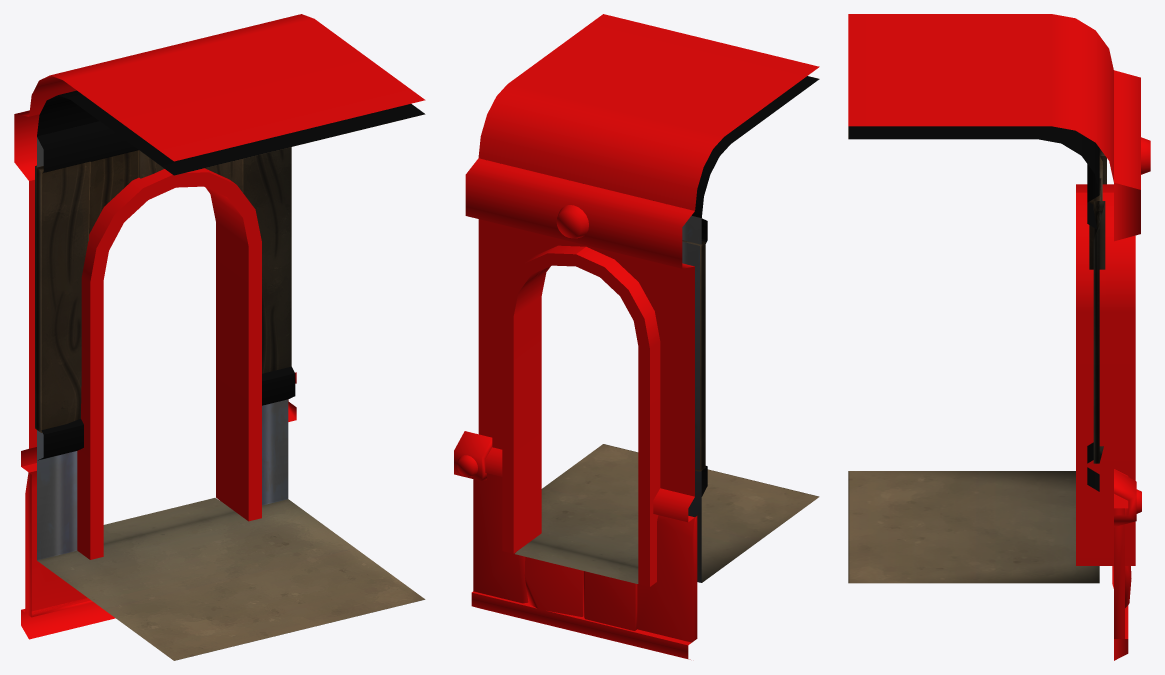
File: SM_PORTE_Train_FINAL.fbx
3 renders of one model, left to right at view 1: azimuth 30°, elevation 25°; view 2: azimuth 150°, elevation 25°; view 3: azimuth 270°, elevation 25°, orthographic. The views are drawn at different scales.
Visible parts, largest first — view 1: Milieu_Porte_Train_Low_FINALE4; view 2: Milieu_Porte_Train_Low_FINALE4; view 3: Milieu_Porte_Train_Low_FINALE4.
Boxes of the visible parts, x1,y1,x2,y2 form: Milieu_Porte_Train_Low_FINALE4: [14, 14, 425, 660]; Milieu_Porte_Train_Low_FINALE4: [454, 14, 819, 659]; Milieu_Porte_Train_Low_FINALE4: [848, 14, 1150, 660].
Bounding box in the file's own units: 2.13 × 4.44 × 2.28.
